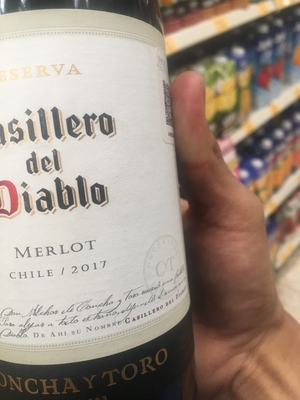casillero del diablo merlot: (1, 4, 197, 392)
